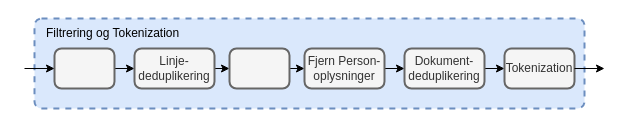
Image size: 630x126. Some labels were removed from this diagram. The shapes that lost their labels are listed below. From the top down, each one's box as (x1, y1, x2, y2) in pixels, then its label:
(53, 47, 115, 89): URL-filter
(228, 47, 290, 89): Kvalitets-filter
